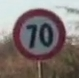limite 70: (9, 7, 65, 61)
